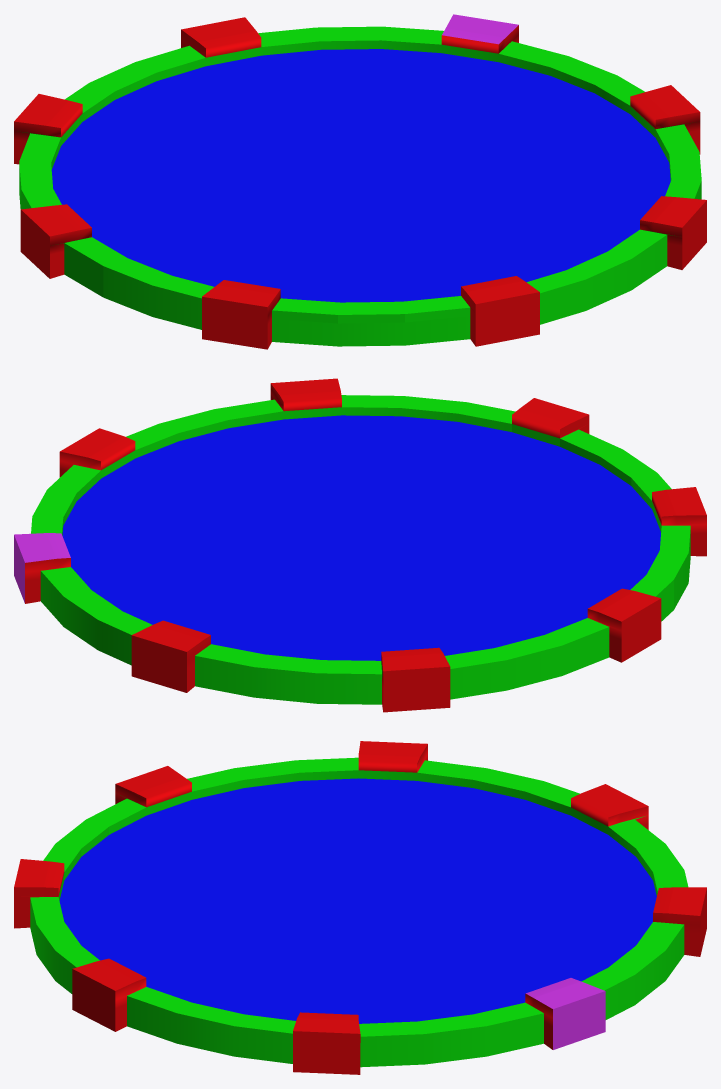
Rendered from circularplantertest.fbx.
3 views of the same model, one above another, from view 1: azimuth 30°, elevation 25°; view 2: azimuth 150°, elevation 25°; view 3: azimuth 270°, elevation 25° (orthographic). The views are drawn at different scales.
Visible parts, largest first — view 1: Cylinder; view 2: Cylinder; view 3: Cylinder.
Part boxes in pixels (<box>): Cylinder: <box>14,14,706,349</box>; Cylinder: <box>14,378,706,712</box>; Cylinder: <box>14,741,706,1074</box>.
Size of the model in its own units: 923 by 60.32 by 923.
